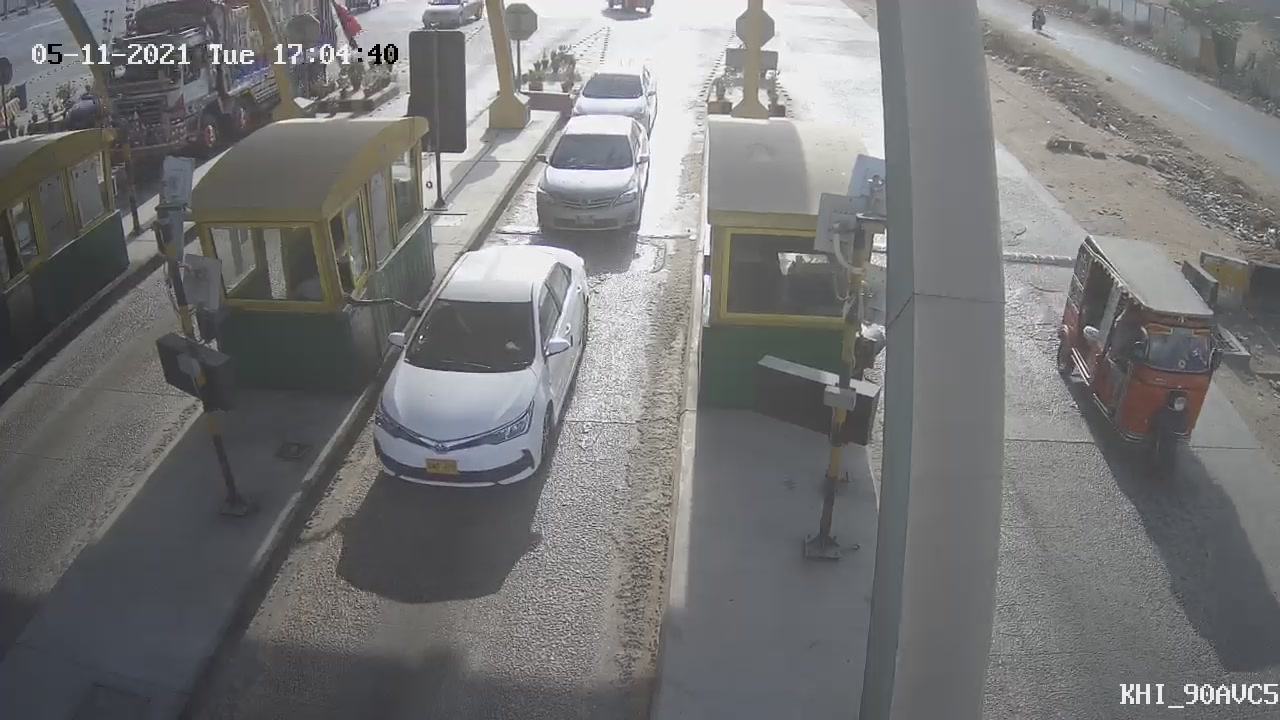F1: (356, 235, 608, 505), (521, 104, 666, 247)
